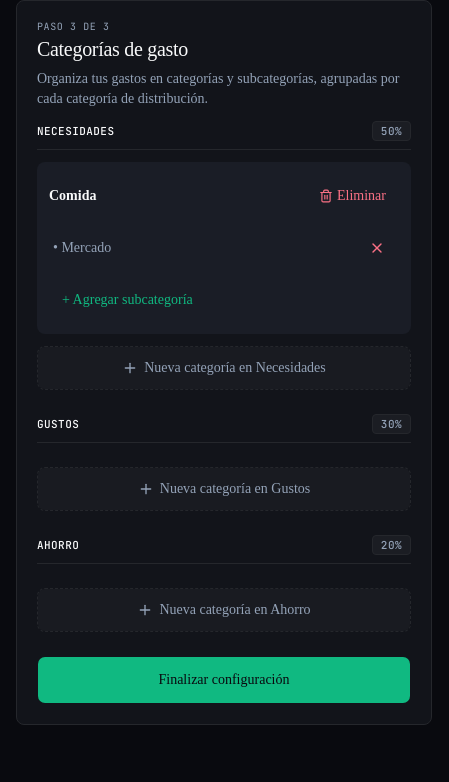
Scenario: OnboardingStep3 — managing categories › keeps the last subcategory of a category
The width and height of the screenshot is (449, 782).
Click the button named "Eliminar subcategoría Mercado": (377, 248) [355,226,399,270]
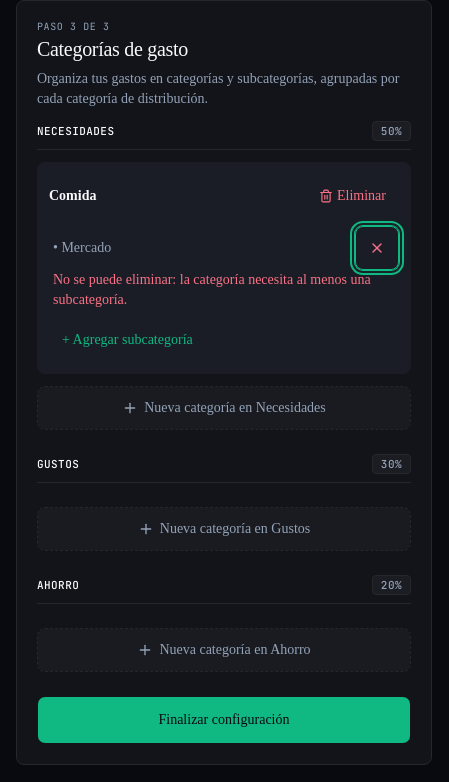
Expected: the message shows "la categoría necesita al menos una subcategoría", [53,272,371,307]
